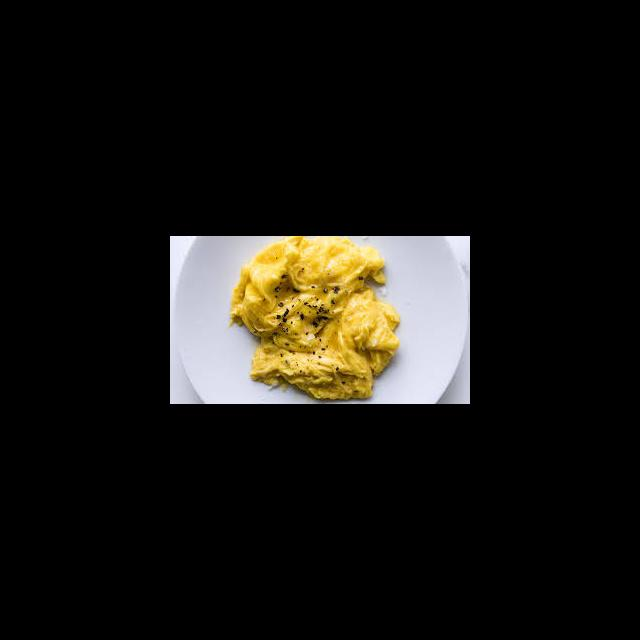food_waste: (234, 236, 390, 390)
